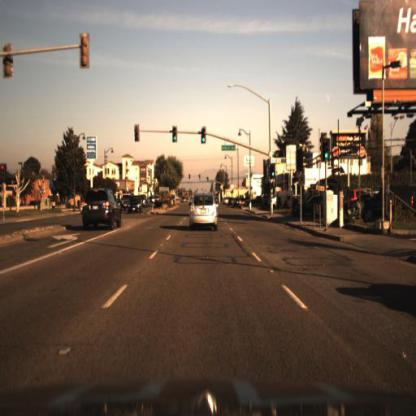car: (80, 186, 123, 230), (189, 190, 220, 231), (296, 193, 328, 222), (127, 192, 143, 217), (269, 193, 285, 209), (234, 197, 246, 211)
trafficLight: (133, 121, 141, 143)
trafficLight-Green: (324, 140, 331, 165), (172, 126, 179, 146), (270, 165, 278, 181), (202, 127, 208, 146)
